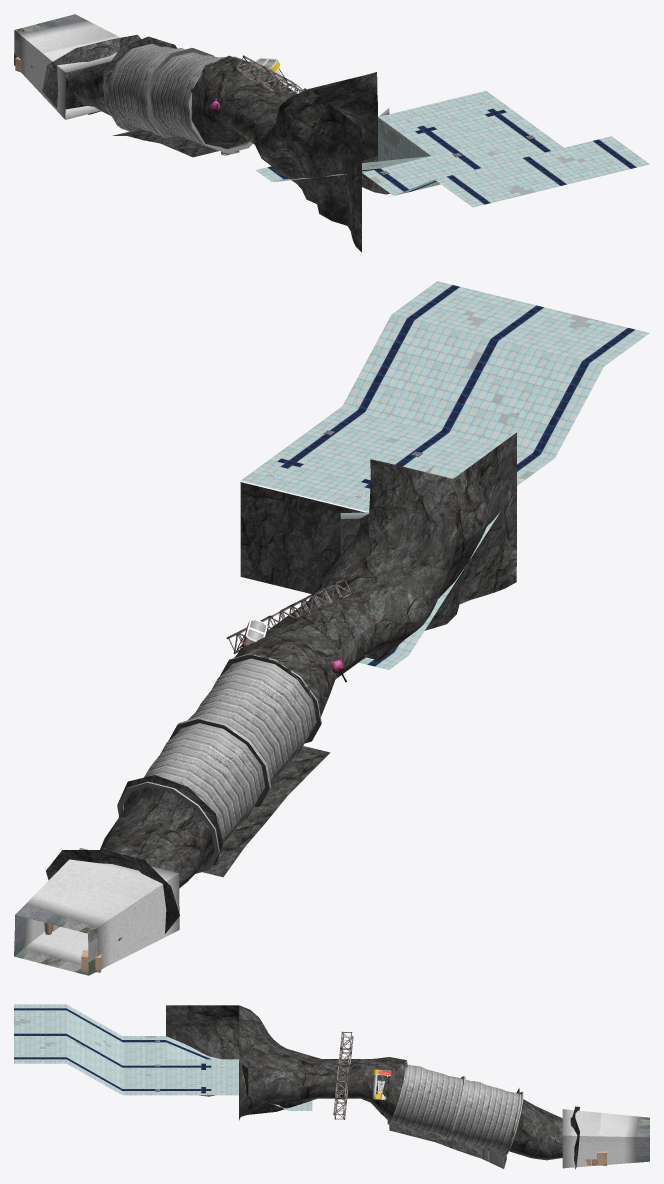
Rendered from poolTunnel.fbx.
The picture shows the model from 3 angles, top to bottom: view 1: azimuth 30°, elevation 25°; view 2: azimuth 150°, elevation 25°; view 3: azimuth 270°, elevation 25°; orthographic projection. The views are drawn at different scales.
Parts seen in each view (by area): view 1: Plane.017, Plane.015, Plane.111, Cylinder.063, Cube.080, Cube.070; view 2: Plane.017, Plane.015, Cylinder.063, Plane.111, Cube.080, Cube.070; view 3: Plane.017, Plane.015, Cylinder.063, Plane.111, Cube.080, Cube.070, Cube.069.
Part boxes in pixels (x1,y1,x2,y2): Plane.017: [255, 91, 649, 207]; Plane.015: [220, 72, 389, 252]; Plane.111: [42, 34, 278, 157]; Cylinder.063: [102, 44, 252, 155]; Cube.080: [14, 14, 120, 119]; Cube.070: [234, 55, 306, 93]; Plane.017: [241, 281, 649, 669]; Plane.015: [240, 432, 516, 678]; Cylinder.063: [117, 653, 321, 873]; Plane.111: [46, 625, 340, 933]; Cube.080: [14, 848, 179, 975]; Cube.070: [226, 578, 353, 654]; Plane.017: [14, 1004, 312, 1110]; Plane.015: [166, 1005, 363, 1120]; Cylinder.063: [387, 1061, 523, 1154]; Plane.111: [361, 1057, 579, 1169]; Cube.080: [562, 1109, 649, 1168]; Cube.070: [333, 1031, 353, 1119]; Cube.069: [371, 1069, 391, 1100].
Bounding box in the file's own units: 1480 × 1498 × 5906.
15 materials, 15 textured.
